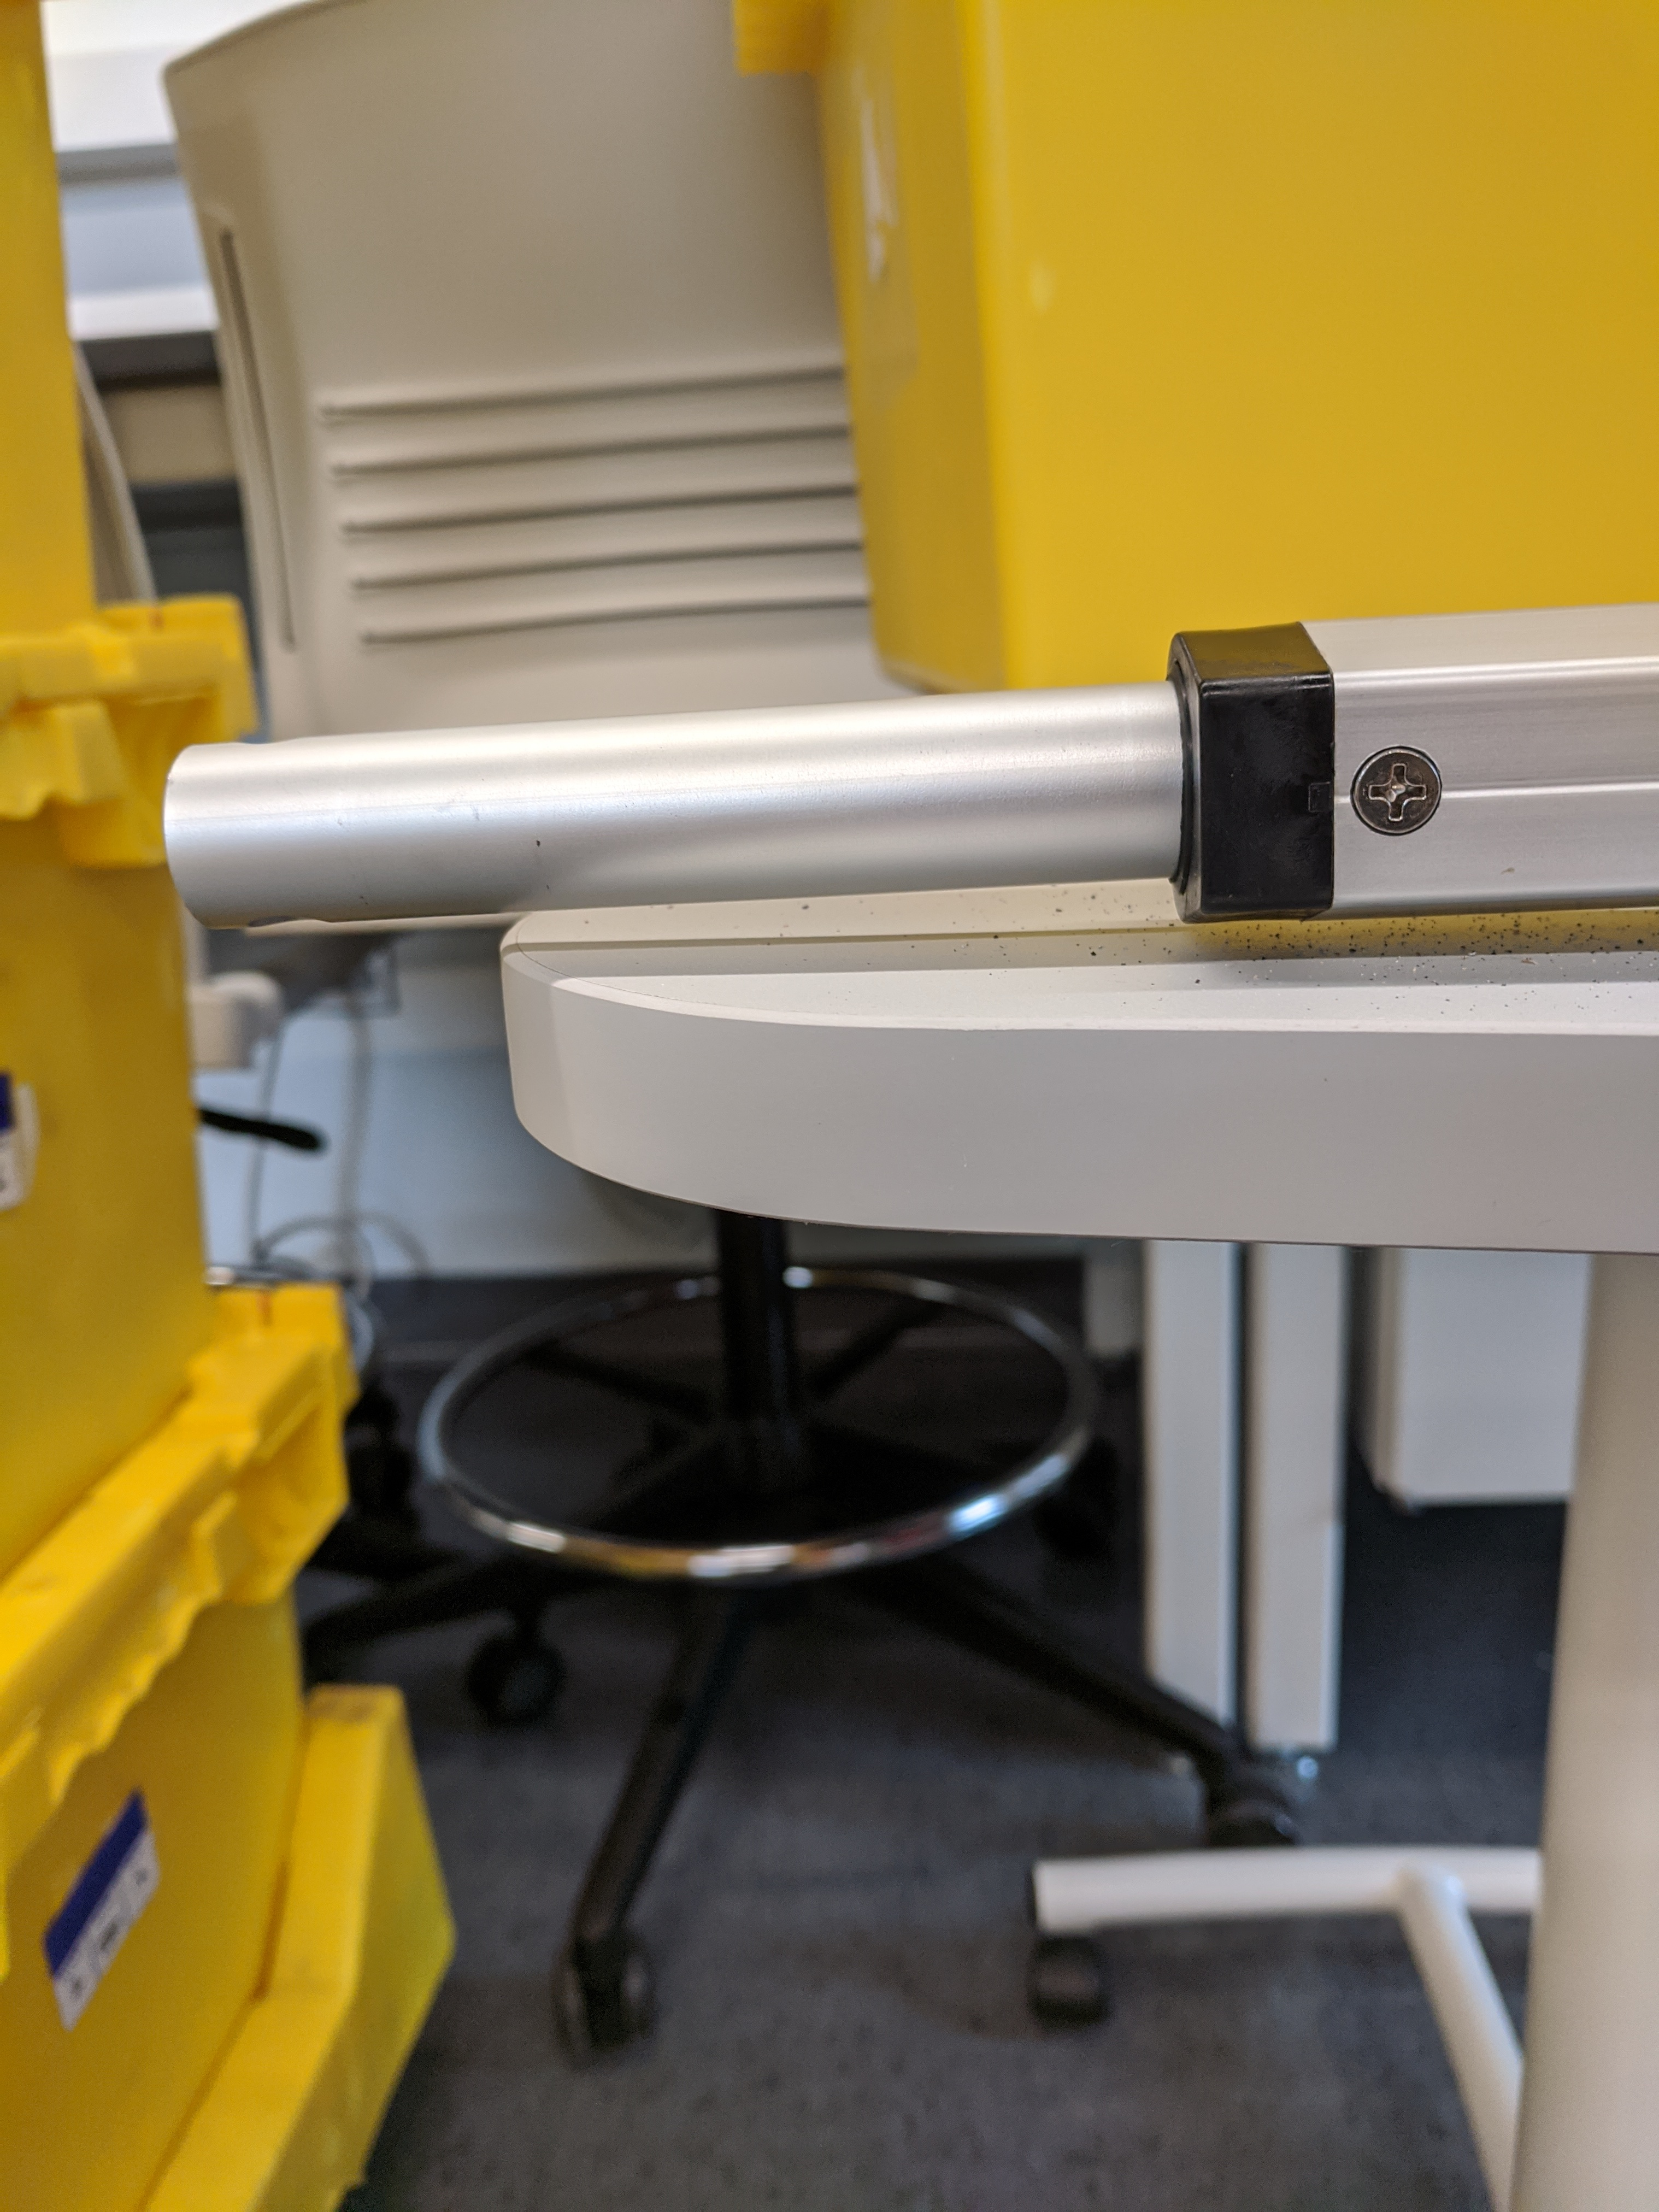cross_recessed_screw: (1337, 733, 1452, 850)
